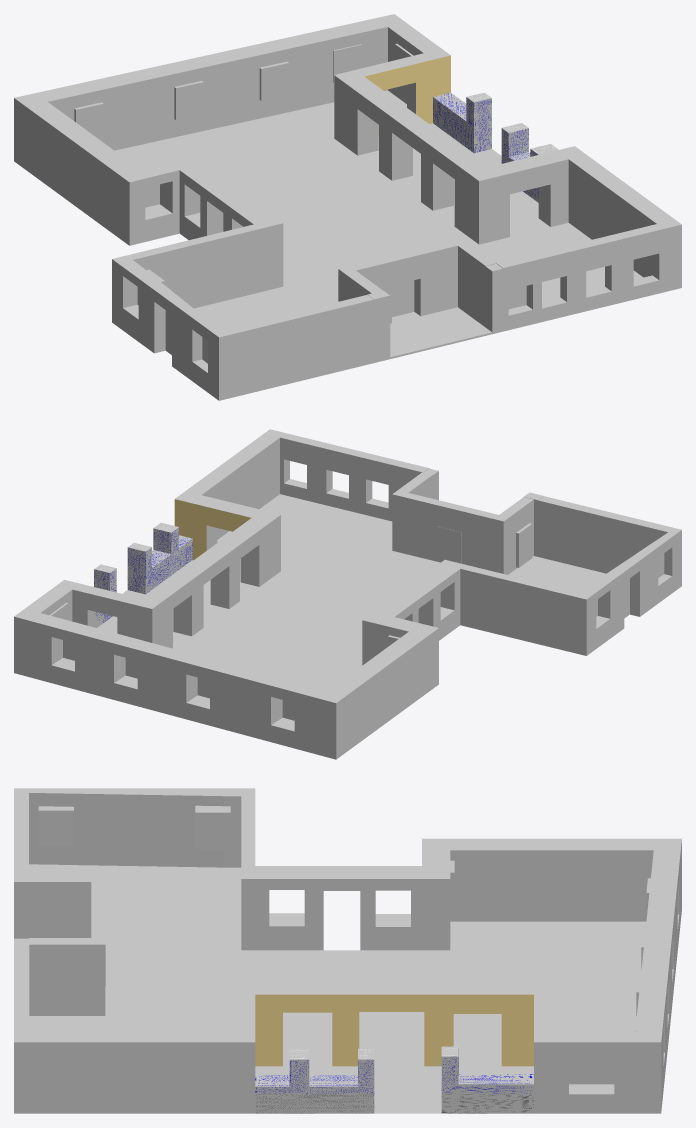
Rendered from Casa.dae.
3 renders of one model, top to bottom at view 1: azimuth 30°, elevation 25°; view 2: azimuth 150°, elevation 25°; view 3: azimuth 270°, elevation 25°, orthographic. The views are drawn at different scales.
Parts seen in each view (by area): view 1: SketchUp (×11); view 2: SketchUp (×4); view 3: SketchUp (×10).
Part boxes in pixels (left/top/right/bottom): SketchUp (×11): left=14, top=14, right=681, bottom=400; SketchUp (×4): left=14, top=429, right=681, bottom=759; SketchUp (×10): left=14, top=788, right=681, bottom=1113.
Bounding box in the file's own units: 799 × 888 × 105.
